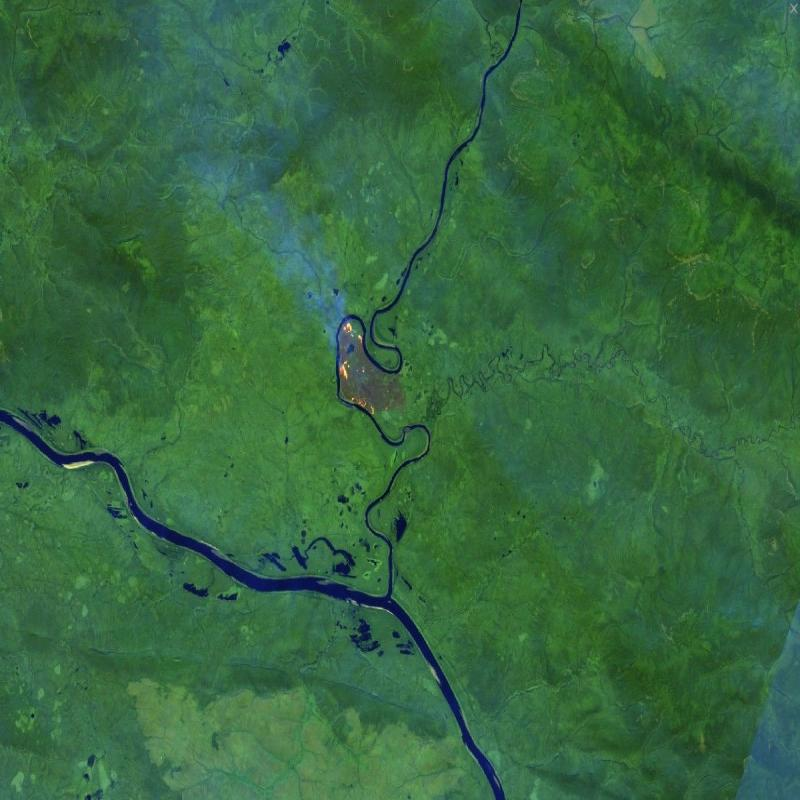fire: (329, 304, 406, 432)
